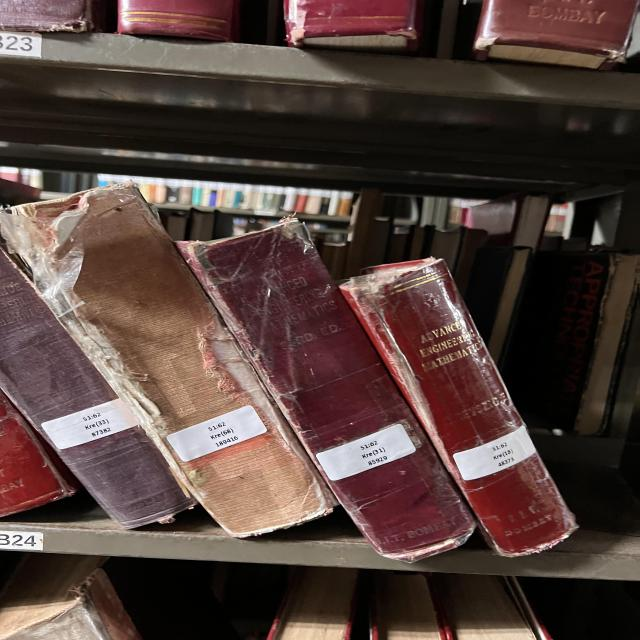Book: (2, 182, 335, 538), (177, 220, 475, 562), (340, 260, 577, 556), (0, 251, 195, 529)
Label: (315, 424, 415, 481), (167, 405, 267, 461), (42, 399, 138, 449), (453, 425, 537, 480)
